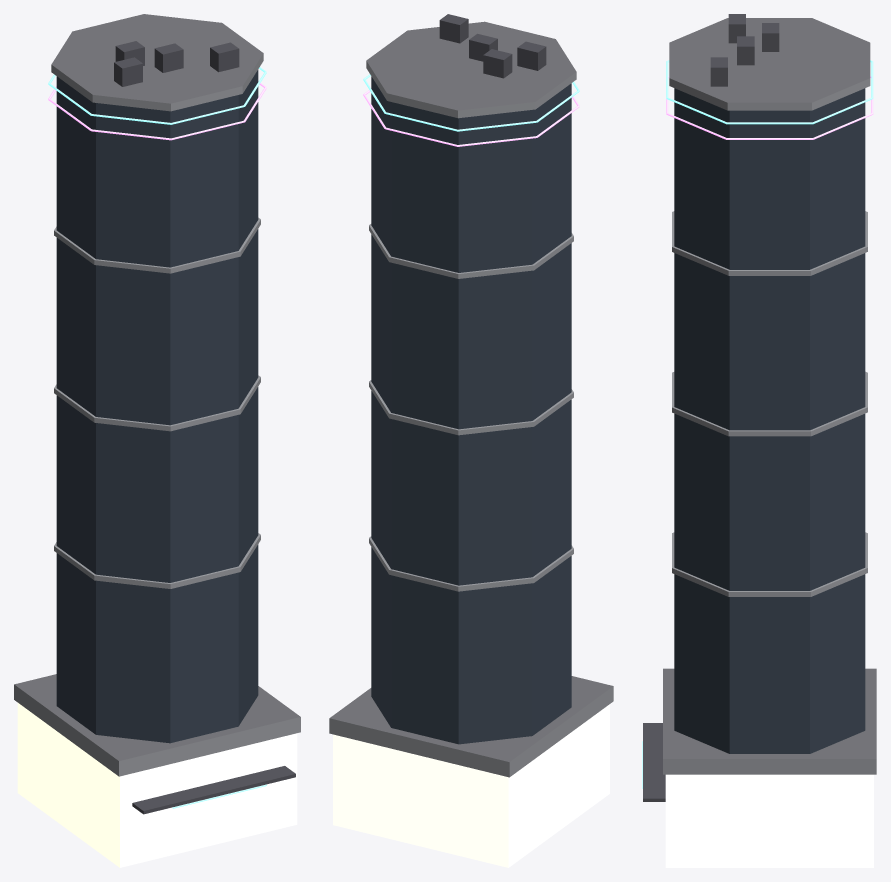
The model's file is s12_oct.glb.
3 renders of one model, left to right at view 1: azimuth 30°, elevation 25°; view 2: azimuth 150°, elevation 25°; view 3: azimuth 270°, elevation 25°, orthographic. The views are drawn at different scales.
Parts seen in each view (by area): view 1: s12_oct; view 2: s12_oct; view 3: s12_oct.
Boxes of the visible parts, x1=… form: s12_oct: x1=14, y1=14, x2=300, y2=867; s12_oct: x1=329, y1=14, x2=613, y2=867; s12_oct: x1=642, y1=14, x2=876, y2=867.
Size of the model in its own units: 12.3 by 49.7 by 13.49.
